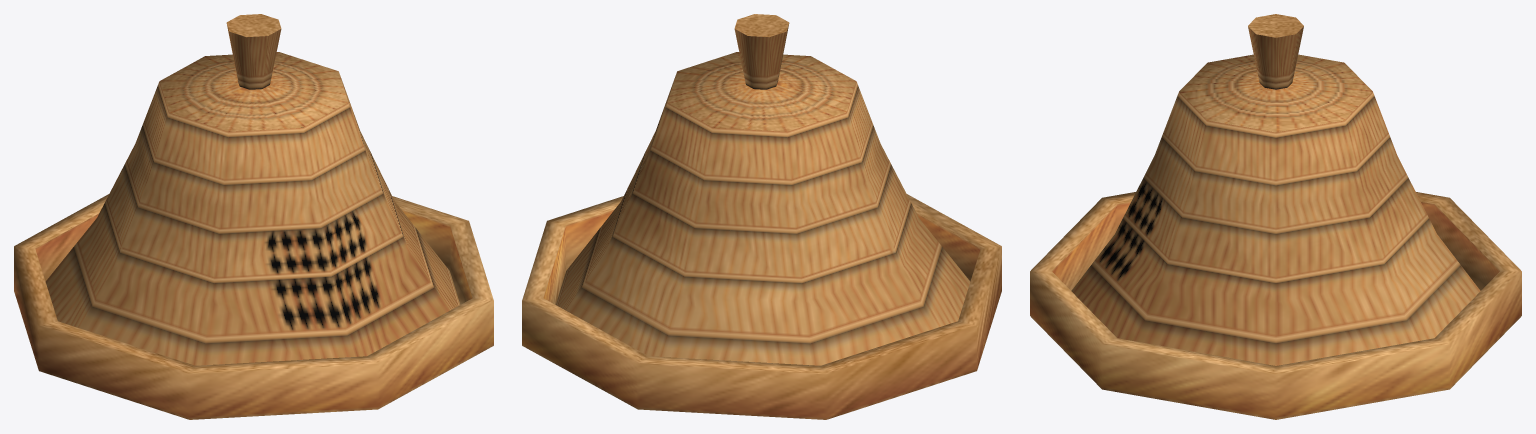
Rendered from hat_4_pickup.fbx.
3 renders of one model, left to right at view 1: azimuth 30°, elevation 25°; view 2: azimuth 150°, elevation 25°; view 3: azimuth 270°, elevation 25°, orthographic.
Parts seen in each view (by area): view 1: hat_4; view 2: hat_4; view 3: hat_4.
Boxes of the visible parts, left/top/right/bottom form: hat_4: left=14, top=14, right=493, bottom=419; hat_4: left=522, top=14, right=1001, bottom=419; hat_4: left=1030, top=14, right=1521, bottom=419.
Bounding box in the file's own units: 66.46 × 43.26 × 66.46.
